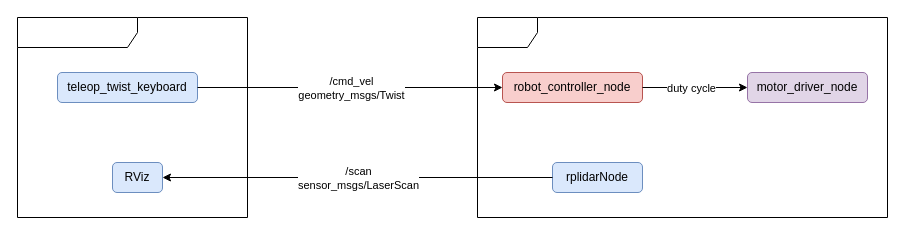
This 905x235 diagram has some shape labels left out. Here are the shapes that lost their labels. From the top down, the centre of each, then its label:
At [132,117]: "command laptop".
At [682,117]: "RPi".
